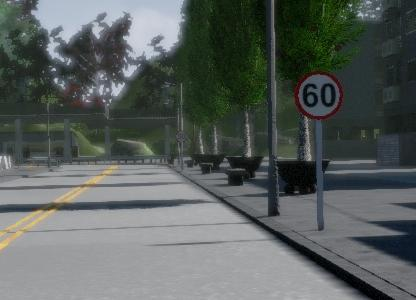Speed_60: (322, 63, 377, 119)
